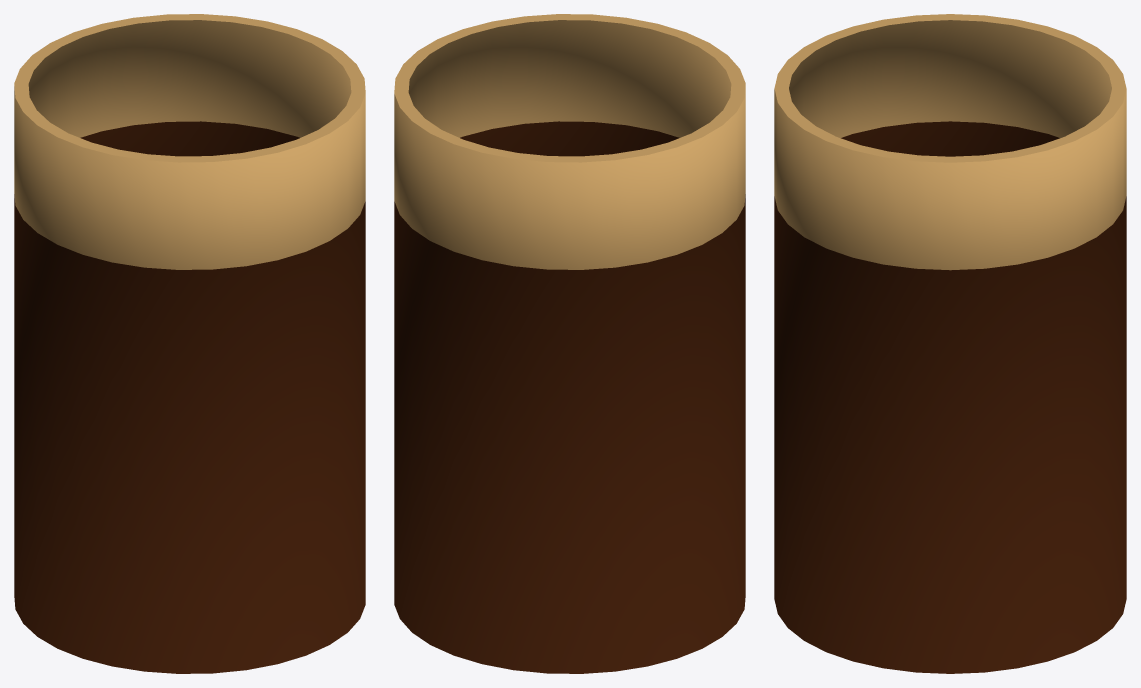
File: trashCan.glb
3 renders of one model, left to right at view 1: azimuth 30°, elevation 25°; view 2: azimuth 150°, elevation 25°; view 3: azimuth 270°, elevation 25°, orthographic.
Parts seen in each view (by area): view 1: Cylinder.081, Cylinder.082; view 2: Cylinder.081, Cylinder.082; view 3: Cylinder.081, Cylinder.082.
Part boxes in pixels (x1=…): Cylinder.081: x1=14, y1=121, x2=365, y2=673; Cylinder.082: x1=14, y1=14, x2=365, y2=269; Cylinder.081: x1=394, y1=121, x2=745, y2=673; Cylinder.082: x1=394, y1=14, x2=745, y2=269; Cylinder.081: x1=774, y1=121, x2=1126, y2=673; Cylinder.082: x1=774, y1=14, x2=1126, y2=270.
Bounding box in the file's own units: 0.0253 × 0.0406 × 0.0253.
